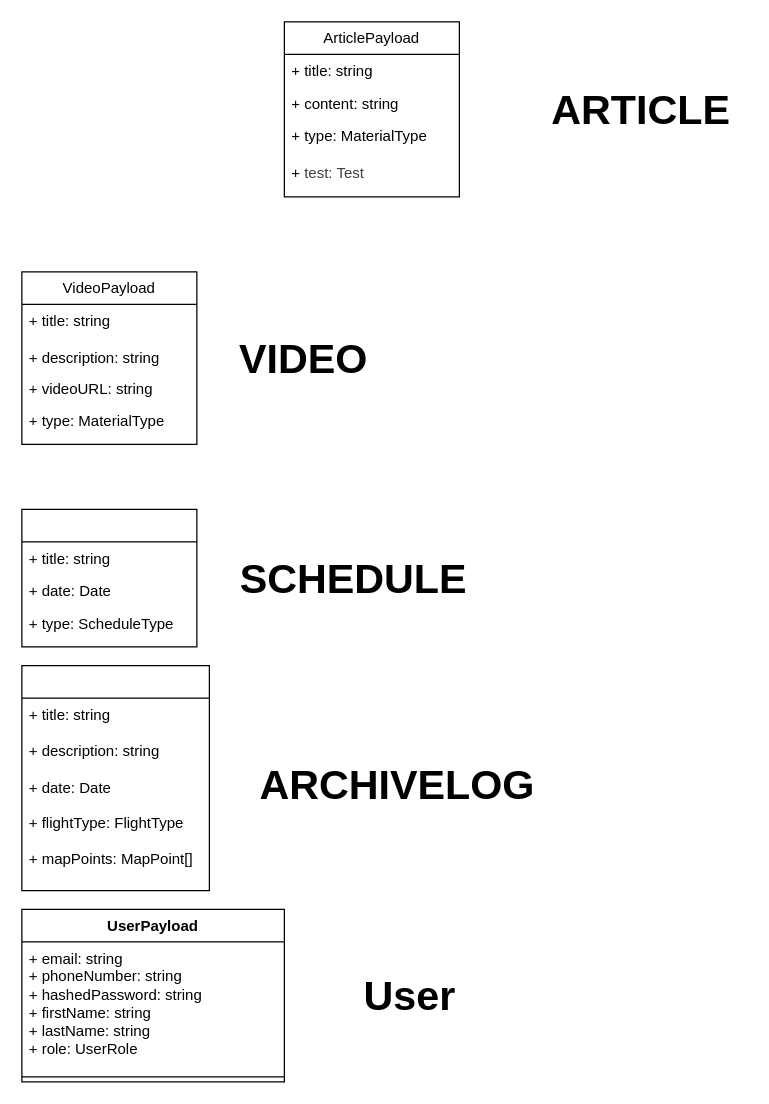
Image size: 769x1104. Some labels were removed from this diagram. The shapes that lost their labels are listed below. From the top down, each one's box as (x1, y1, x2, y2) in pixels, then its label:
(21, 508, 197, 647): SchedulePayload
(21, 664, 209, 891): ArchiveLogPayload
